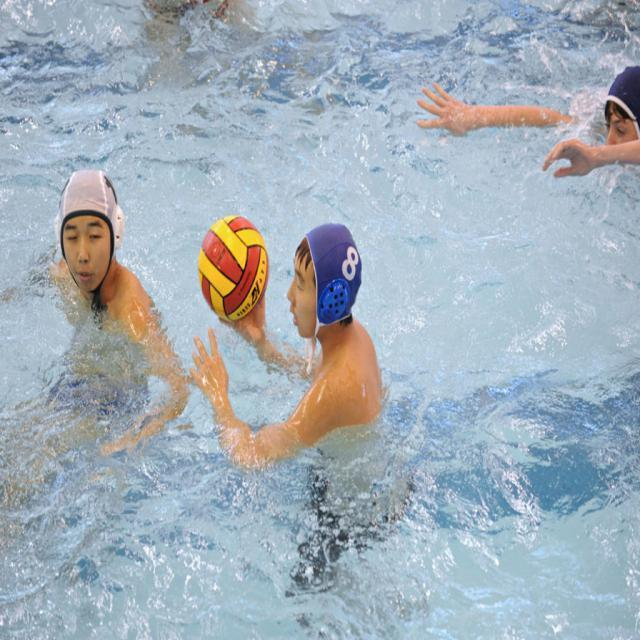football: (187, 197, 275, 321)
